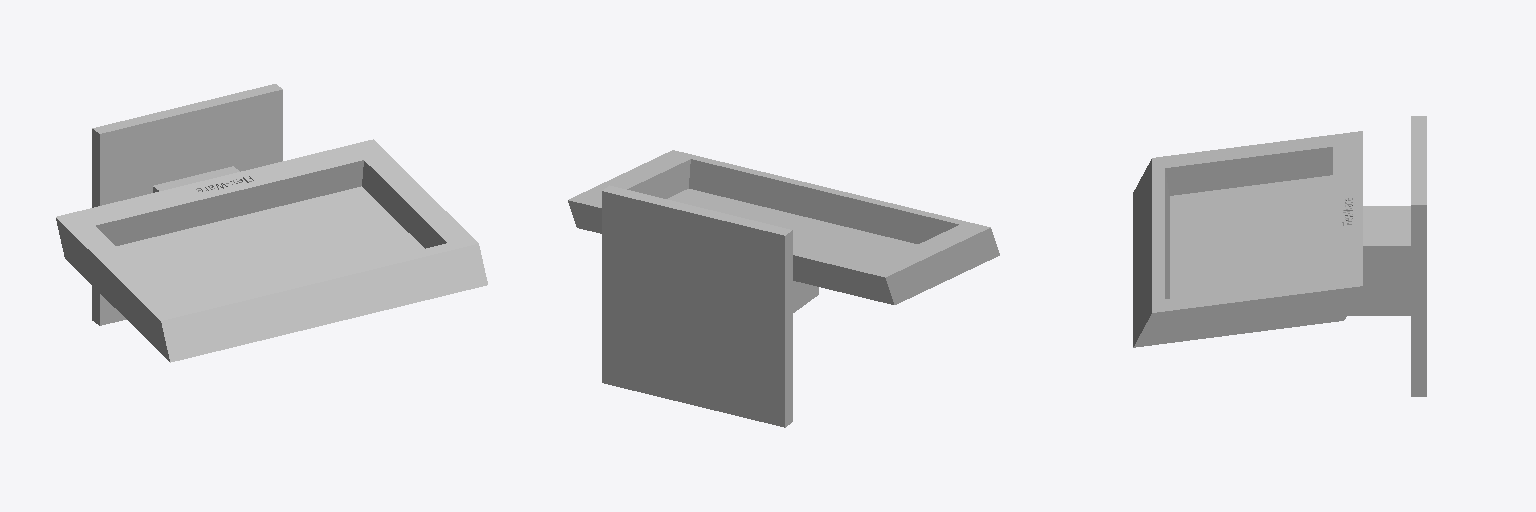
The model's file is tinker.obj.
3 renders of one model, left to right at view 1: azimuth 30°, elevation 25°; view 2: azimuth 150°, elevation 25°; view 3: azimuth 270°, elevation 25°, orthographic.
Visible parts, largest first — view 1: obj_0; view 2: obj_0; view 3: obj_0.
Boxes of the visible parts, box(x1,y1,x2,y2) form: obj_0: box(56, 84, 487, 362); obj_0: box(568, 150, 999, 427); obj_0: box(1133, 116, 1426, 396).
Bounding box in the file's own units: 130 × 75 × 104.